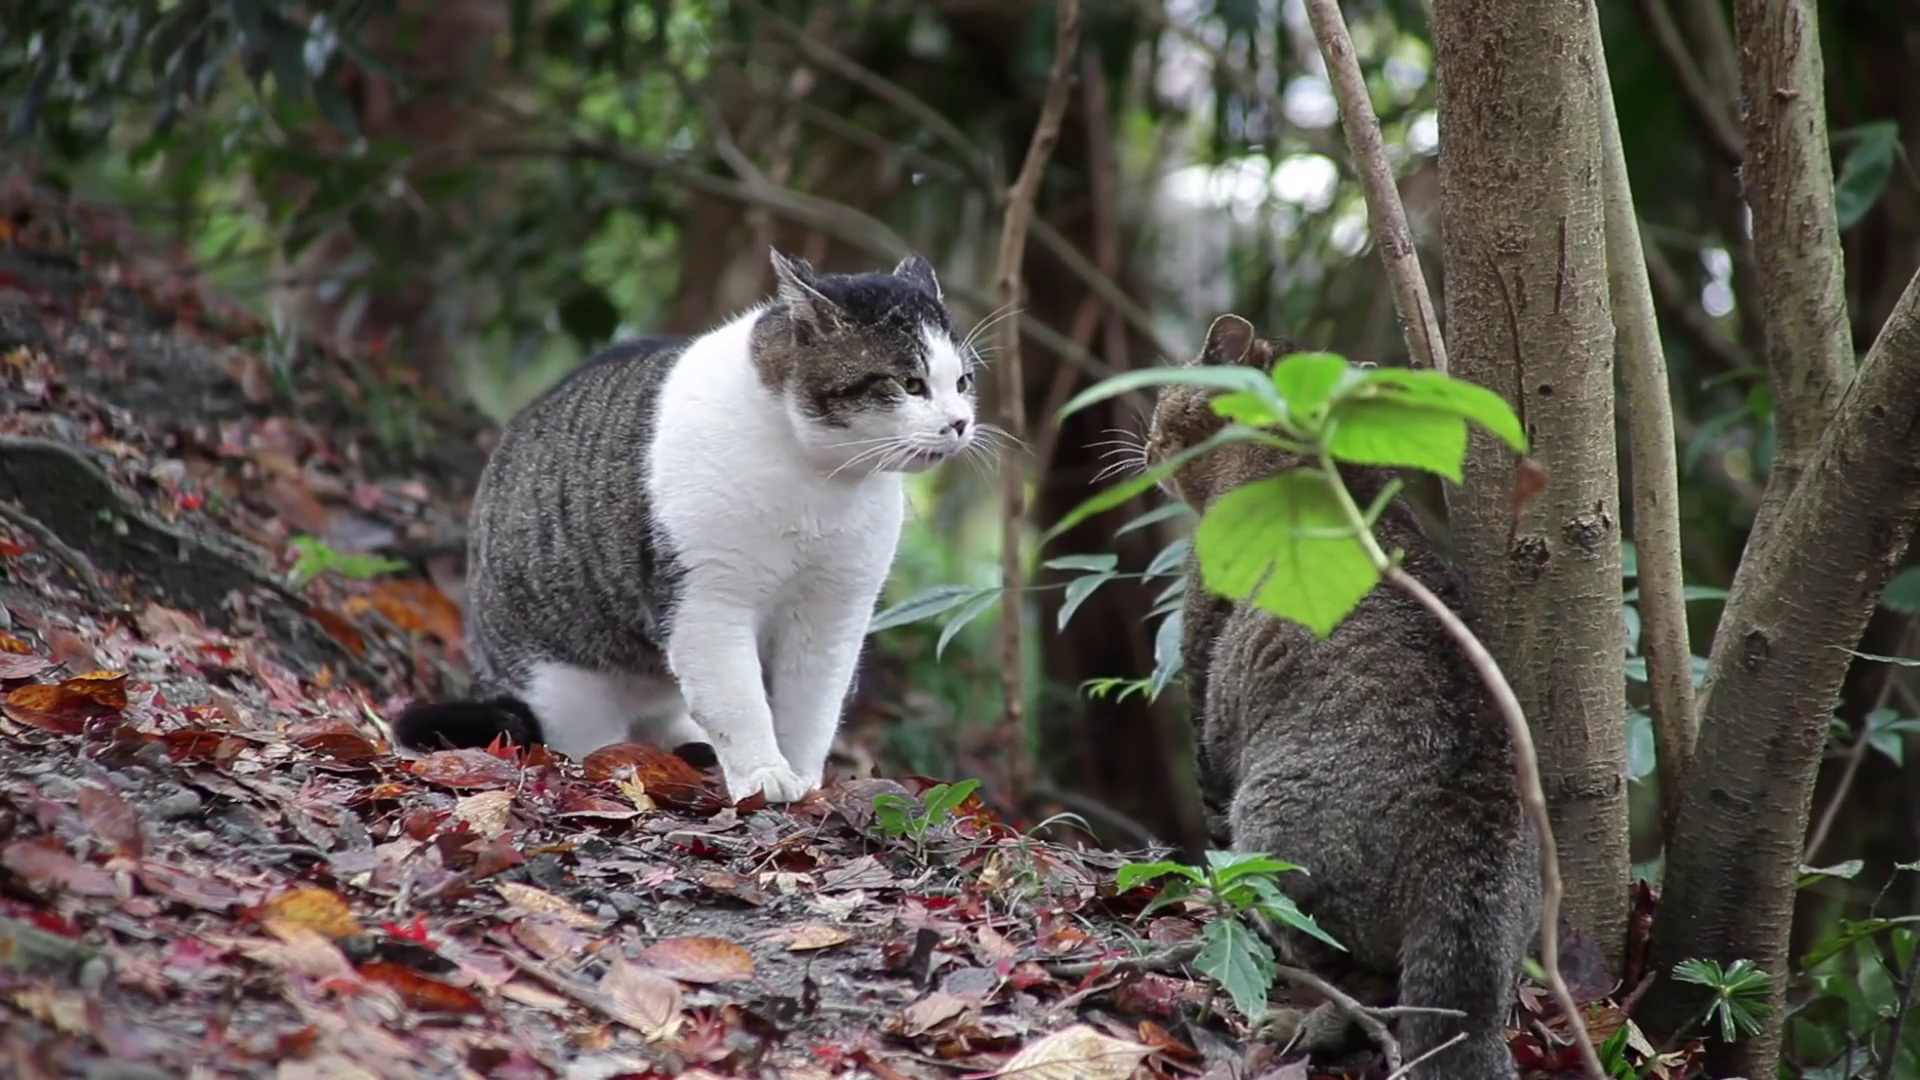black-white: (393, 248, 977, 803)
pure black: (1139, 310, 1534, 1080)
